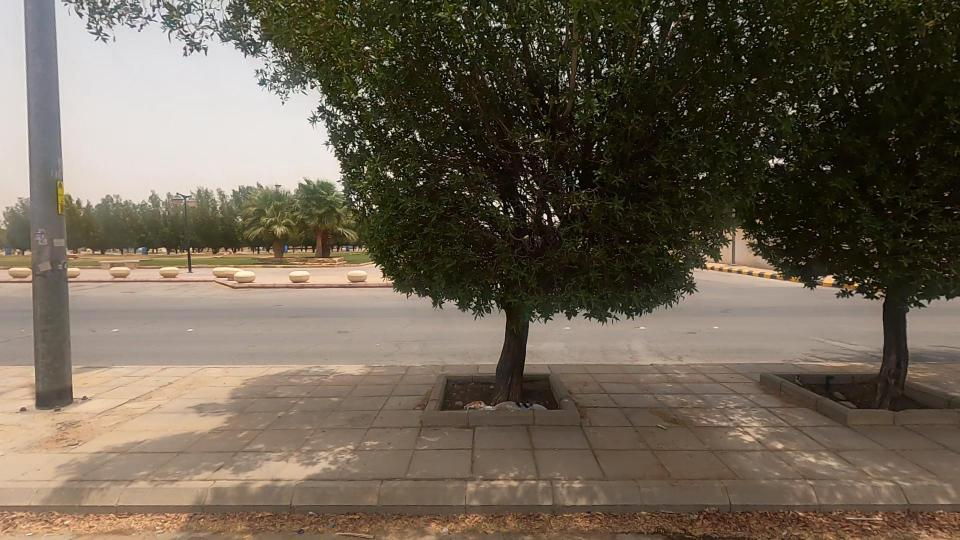GARBAGE: (404, 369, 610, 446), (630, 404, 686, 449)
